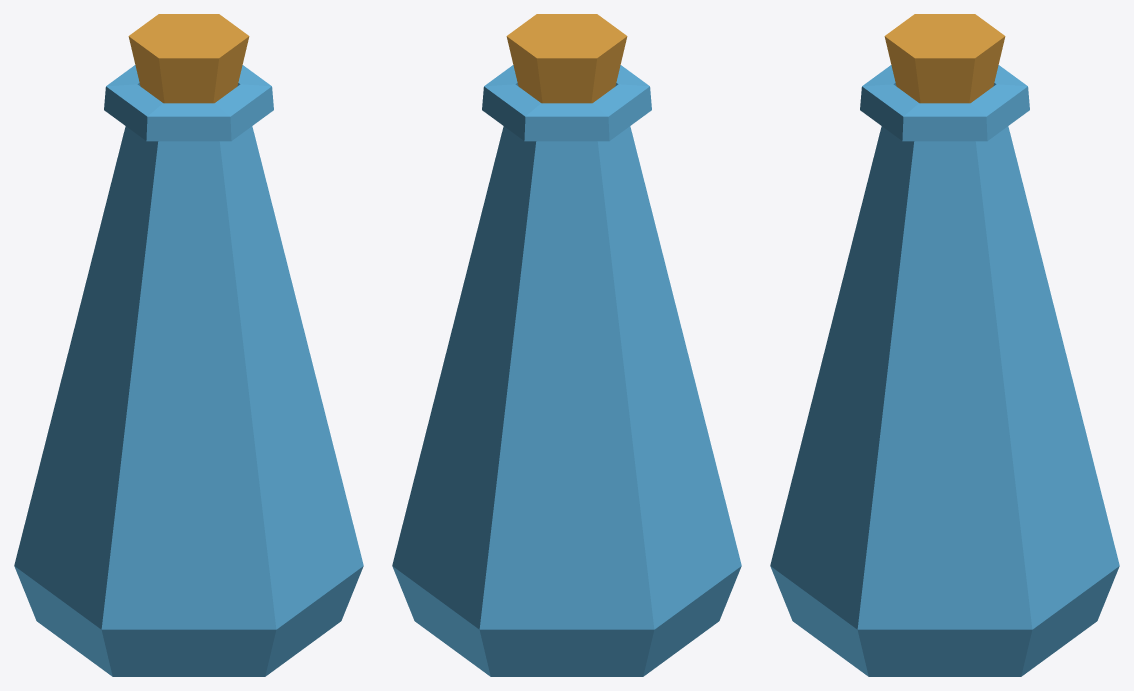
Rendered from SM_Bottle_Alchemy_F_Full.fbx.
The picture shows the model from 3 angles, left to right: view 1: azimuth 30°, elevation 25°; view 2: azimuth 150°, elevation 25°; view 3: azimuth 270°, elevation 25°; orthographic projection.
Parts seen in each view (by area): view 1: bottle-alchemy-f-full; view 2: bottle-alchemy-f-full; view 3: bottle-alchemy-f-full.
Part boxes in pixels (box(x1,y1,x2,y2)): bottle-alchemy-f-full: box(14, 14, 363, 676); bottle-alchemy-f-full: box(392, 14, 741, 676); bottle-alchemy-f-full: box(770, 14, 1119, 676).
Size of the model in its own units: 0.0767 by 0.1635 by 0.0885.
